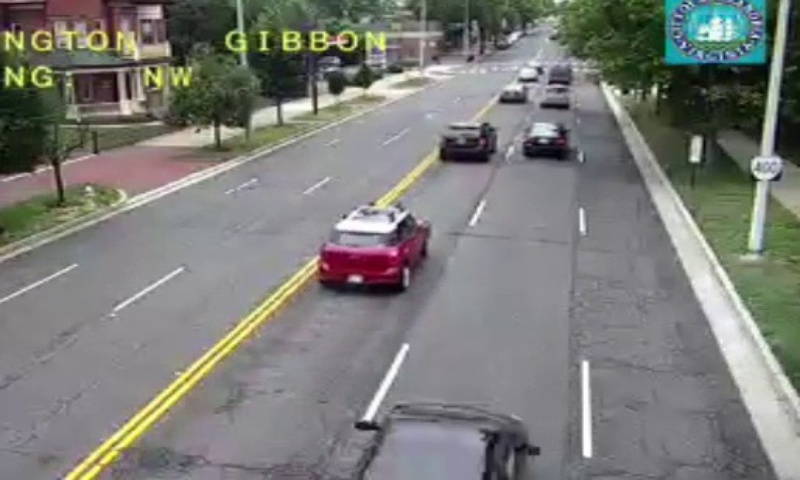car: (317, 205, 432, 288), (438, 122, 494, 159), (522, 122, 568, 156)
